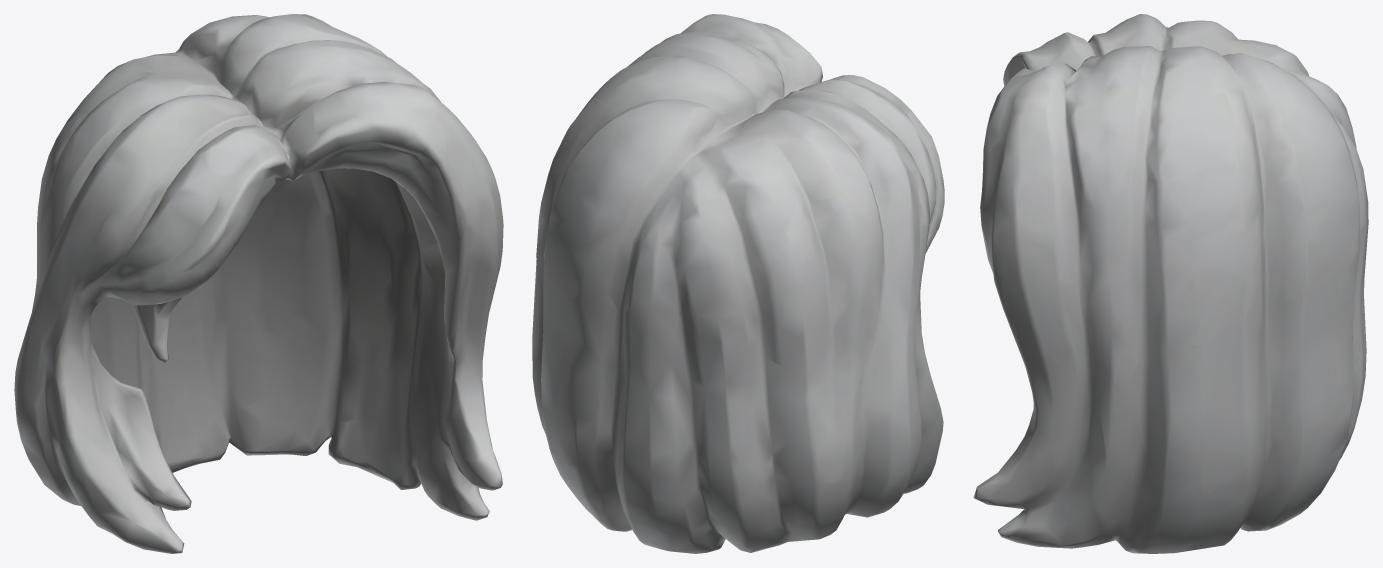
File: hair-long.glb
3 views of the same model, side by side, from view 1: azimuth 30°, elevation 25°; view 2: azimuth 150°, elevation 25°; view 3: azimuth 270°, elevation 25° (orthographic). The views are drawn at different scales.
Parts seen in each view (by area): view 1: hair-long; view 2: hair-long; view 3: hair-long.
Boxes of the visible parts, <box> form: hair-long: <box>14,14,503,553</box>; hair-long: <box>532,14,944,553</box>; hair-long: <box>973,14,1368,553</box>.
Size of the model in its own units: 0.9083 by 1 by 0.7917.
Materials: 1 (1 with a texture image).
